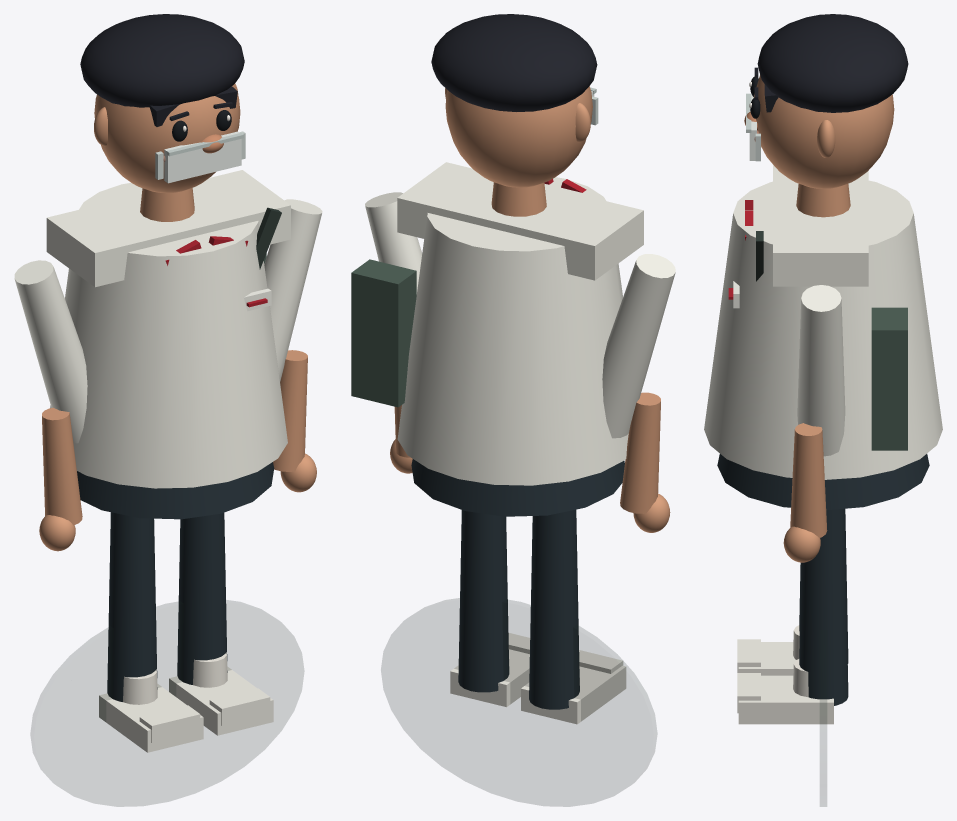
The model's file is player_male_white_mask.glb.
3 renders of one model, left to right at view 1: azimuth 30°, elevation 25°; view 2: azimuth 150°, elevation 25°; view 3: azimuth 270°, elevation 25°, orthographic. The views are drawn at different scales.
Parts seen in each view (by area): view 1: torso, contact_shadow, hair_cap, shoulder_line, leg_-0.075, leg_0.075, upper_arm_-0.235, head, hip, upper_arm_0.235, forearm_-0.235, shoe_-0.075 (+11 smaller); view 2: torso, contact_shadow, hair_cap, shoulder_line, leg_-0.075, head, leg_0.075, shoulder_bag, upper_arm_-0.235, hip, forearm_-0.235, upper_arm_0.235 (+5 smaller); view 3: torso, hair_cap, head, shoulder_line, leg_0.075, upper_arm_0.235, shoulder_bag, hip, forearm_0.235, shoe_0.075, neck, shoe_-0.075 (+6 smaller).
Boxes of the visible parts, <box> form: torso: <box>50,183,287,488</box>; contact_shadow: <box>31,600,303,806</box>; hair_cap: <box>80,14,244,107</box>; shoulder_line: <box>46,170,290,287</box>; leg_-0.075: <box>107,512,157,701</box>; leg_0.075: <box>177,513,227,684</box>; upper_arm_-0.235: <box>14,260,87,443</box>; head: <box>94,84,240,193</box>; hip: <box>77,462,274,519</box>; upper_arm_0.235: <box>264,199,322,381</box>; forearm_-0.235: <box>42,407,82,525</box>; shoe_-0.075: <box>99,683,203,752</box>; torso: <box>397,177,628,485</box>; contact_shadow: <box>381,598,656,806</box>; hair_cap: <box>431,14,597,111</box>; shoulder_line: <box>397,162,643,280</box>; leg_-0.075: <box>529,509,579,709</box>; head: <box>445,86,592,187</box>; leg_0.075: <box>458,510,509,692</box>; shoulder_bag: <box>351,259,416,407</box>; upper_arm_-0.235: <box>602,254,675,438</box>; hip: <box>411,459,624,516</box>; forearm_-0.235: <box>620,392,660,513</box>; upper_arm_0.235: <box>365,192,422,293</box>; torso: <box>704,180,942,479</box>; hair_cap: <box>757,14,908,112</box>; head: <box>753,75,894,188</box>; shoulder_line: <box>773,165,868,286</box>; leg_0.075: <box>799,508,848,705</box>; upper_arm_0.235: <box>797,285,845,456</box>; shoulder_bag: <box>871,307,907,450</box>; hip: <box>717,454,929,510</box>; forearm_0.235: <box>790,423,827,537</box>; shoe_0.075: <box>738,675,833,724</box>; neck: <box>796,184,850,217</box>; shoe_-0.075: <box>738,642,796,675</box>.
Bounding box in the file's own units: 0.675 × 1.64 × 0.468.
